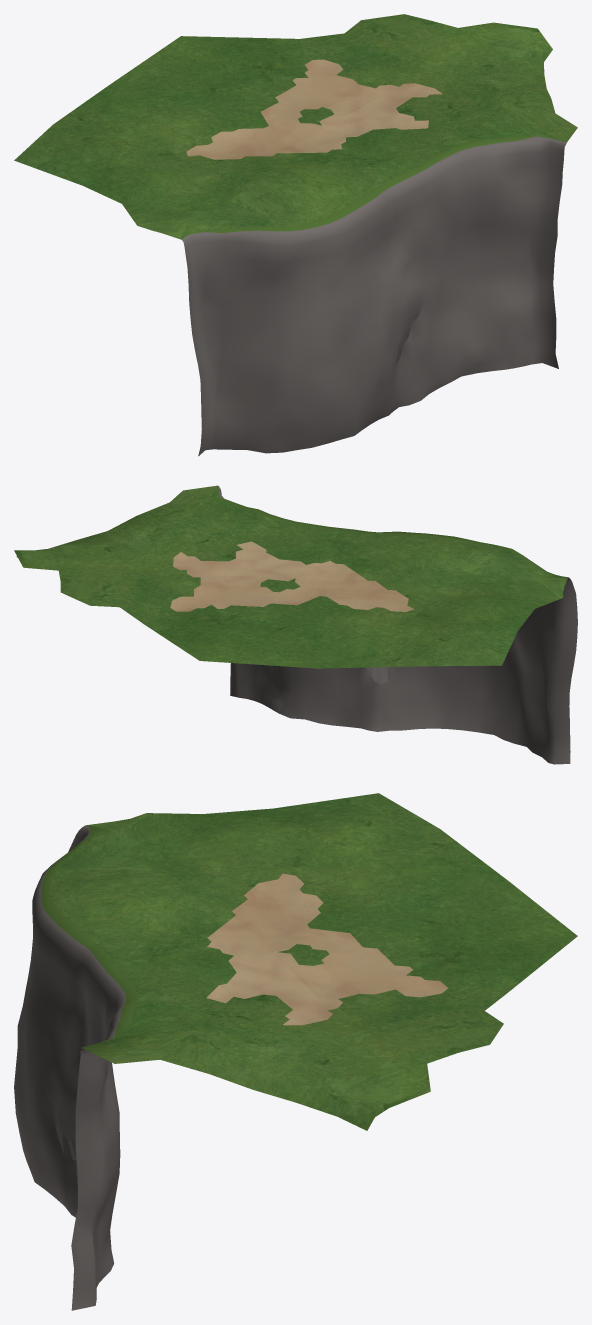
The model's file is SM_ENV_KNFRST_Cliff_I_COL.FBX.
The picture shows the model from 3 angles, top to bottom: view 1: azimuth 30°, elevation 25°; view 2: azimuth 150°, elevation 25°; view 3: azimuth 270°, elevation 25°; orthographic projection. The views are drawn at different scales.
Parts seen in each view (by area): view 1: SM_ENV_KNFRST_Cliff_I_COL; view 2: SM_ENV_KNFRST_Cliff_I_COL; view 3: SM_ENV_KNFRST_Cliff_I_COL.
Part boxes in pixels (x1,y1,x2,y2): SM_ENV_KNFRST_Cliff_I_COL: [14, 14, 577, 456]; SM_ENV_KNFRST_Cliff_I_COL: [14, 485, 577, 764]; SM_ENV_KNFRST_Cliff_I_COL: [14, 793, 577, 1310].
Bounding box in the file's own units: 6065 × 2545 × 4537.
